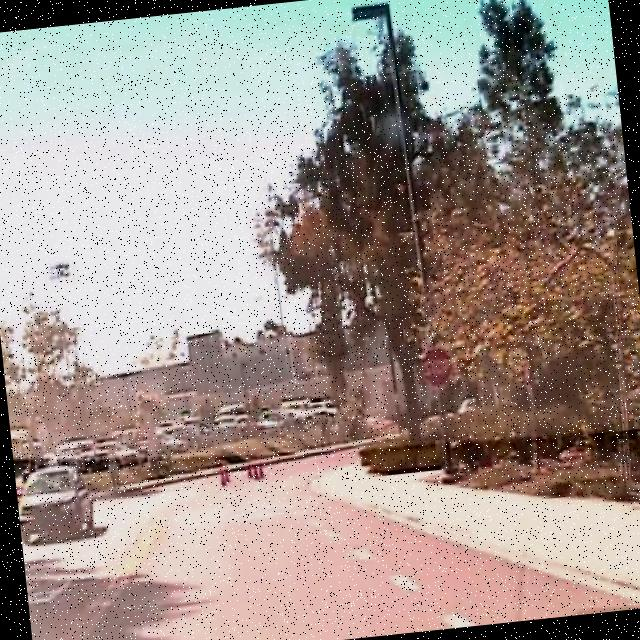Stop: (418, 345, 455, 391)
